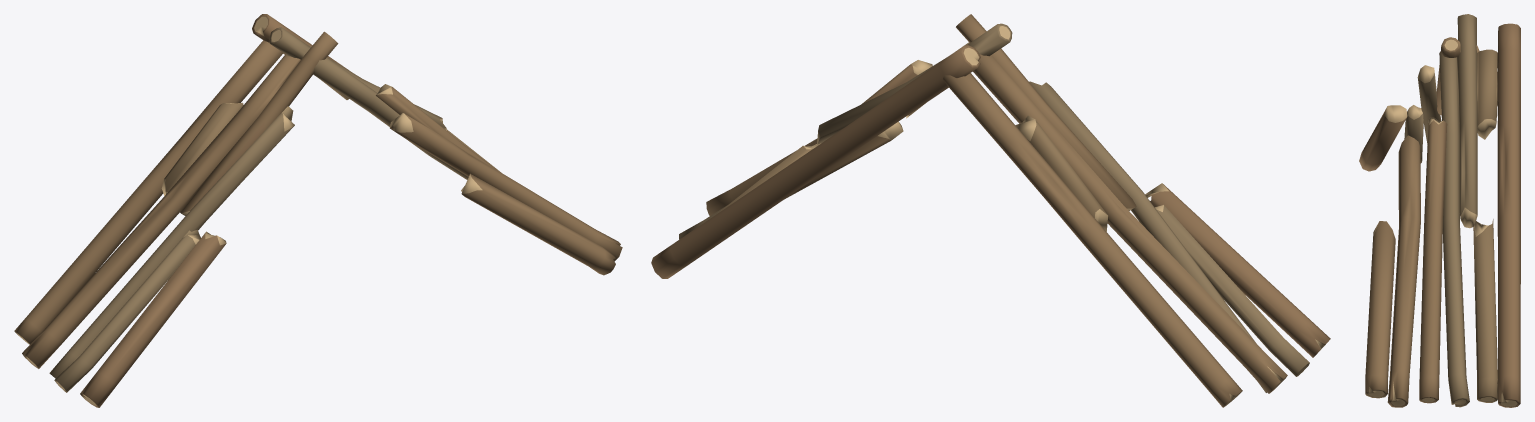
Rendered from rpgpp_av_roof_01_9x4x3_c.gltf.
The picture shows the model from 3 angles, left to right: view 1: azimuth 30°, elevation 25°; view 2: azimuth 150°, elevation 25°; view 3: azimuth 270°, elevation 25°; orthographic projection. The views are drawn at different scales.
Parts seen in each view (by area): view 1: rpgpp_av_roof_01_9x4x3_c; view 2: rpgpp_av_roof_01_9x4x3_c; view 3: rpgpp_av_roof_01_9x4x3_c.
Part boxes in pixels (bbox=[...]): rpgpp_av_roof_01_9x4x3_c: bbox=[14, 14, 622, 407]; rpgpp_av_roof_01_9x4x3_c: bbox=[651, 14, 1330, 407]; rpgpp_av_roof_01_9x4x3_c: bbox=[1359, 14, 1520, 407].
Size of the model in its own units: 0.1129 by 0.0559 by 0.03.
1 material, 1 textured.
